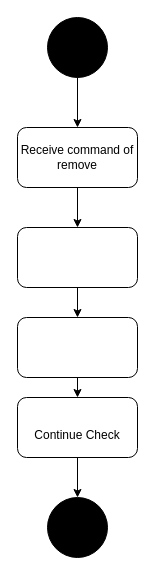
Some shapes in this 155 by 575 pixel diagram are drawn without their labels. The shapes that lost their labels are listed below. From the top down, each one's centre as x and y in pixels, then its label:
At [77,257]: "Check Documents".
At [77,347]: "Remove Document".
